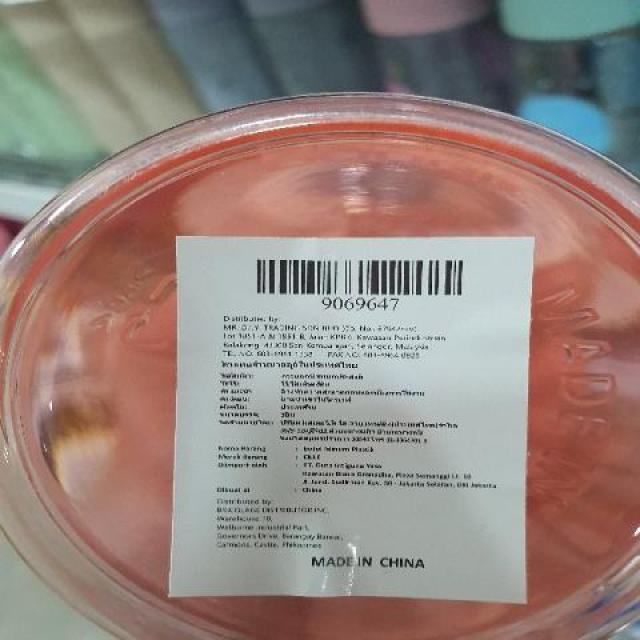Barcode: (240, 248, 480, 313)
